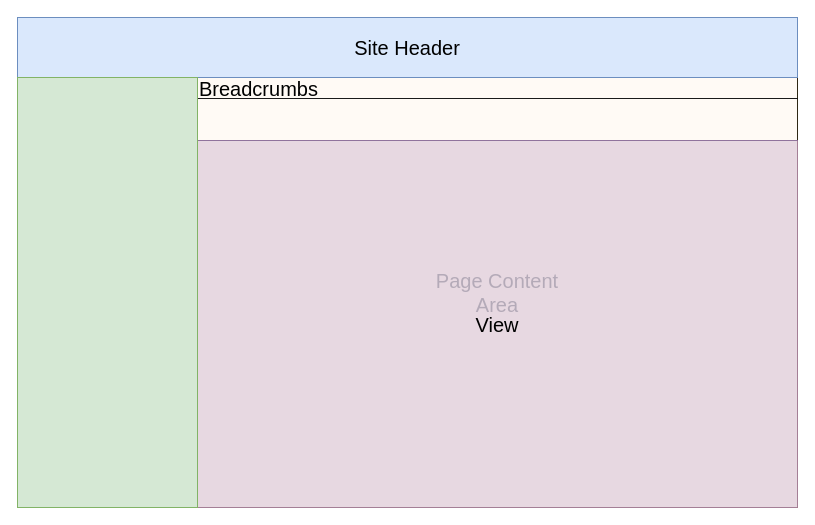
The diagram is 815 pixels wide and 525 high, and some of its shapes have lost their labels. Here are the shapes that lost their labels. From the top down, the centre of each, then its label:
the point at 497,119: Page Header
the point at 107,292: Site Navigation
